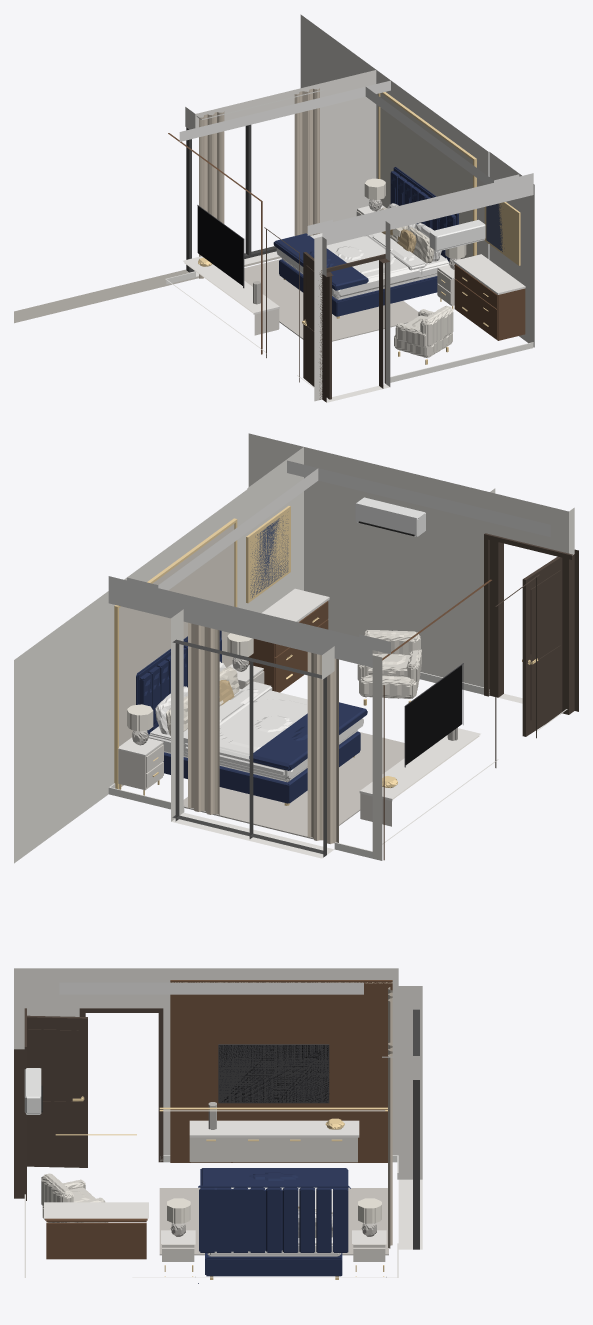
Rendered from MASTER.glb.
The picture shows the model from 3 angles, top to bottom: view 1: azimuth 30°, elevation 25°; view 2: azimuth 150°, elevation 25°; view 3: azimuth 270°, elevation 25°; orthographic projection. The views are drawn at different scales.
Parts seen in each view (by area): view 1: WEB_MASTER; view 2: WEB_MASTER; view 3: WEB_MASTER.
Part boxes in pixels (x1,y1,x2,y2): WEB_MASTER: [14, 14, 534, 402]; WEB_MASTER: [14, 433, 578, 863]; WEB_MASTER: [14, 968, 422, 1283].
Bounding box in the file's own units: 7.14 × 3.2 × 7.39.
